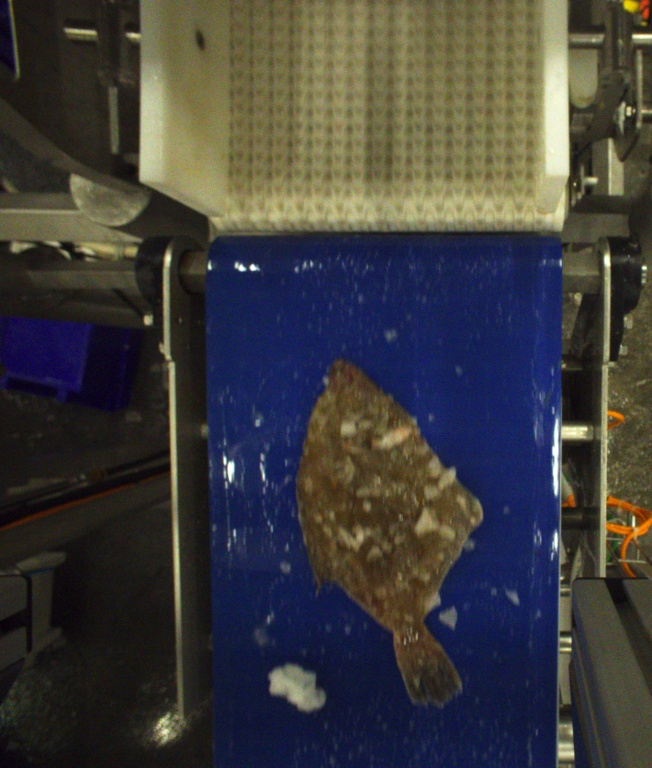PLE: (294, 358, 486, 707)
